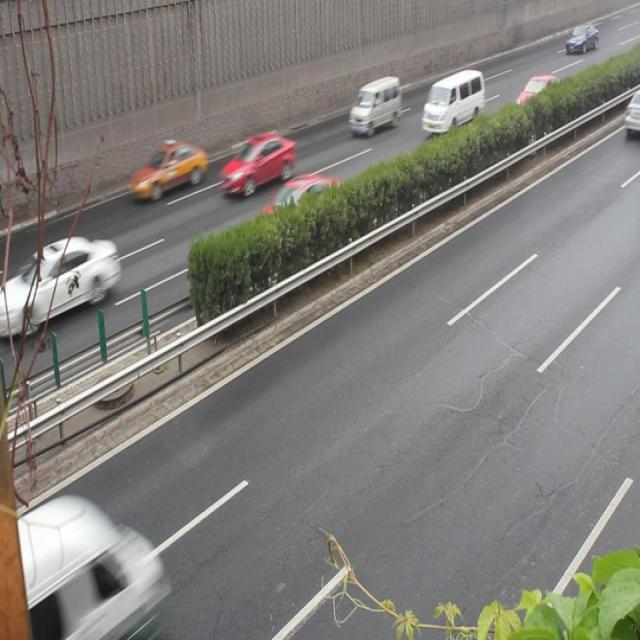car: (13, 237, 118, 326), (253, 175, 348, 252), (218, 133, 294, 196), (130, 143, 207, 201), (513, 74, 558, 119)
truck: (1, 499, 157, 640), (421, 69, 485, 132), (348, 76, 402, 134)
